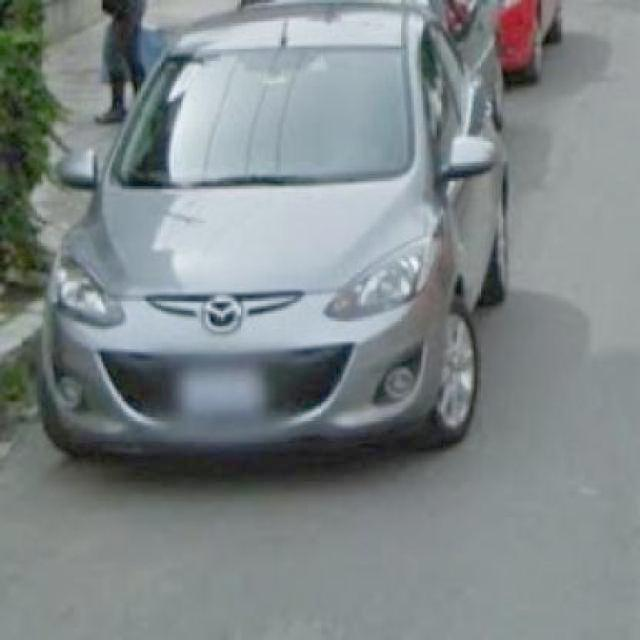car: (58, 3, 521, 488)
